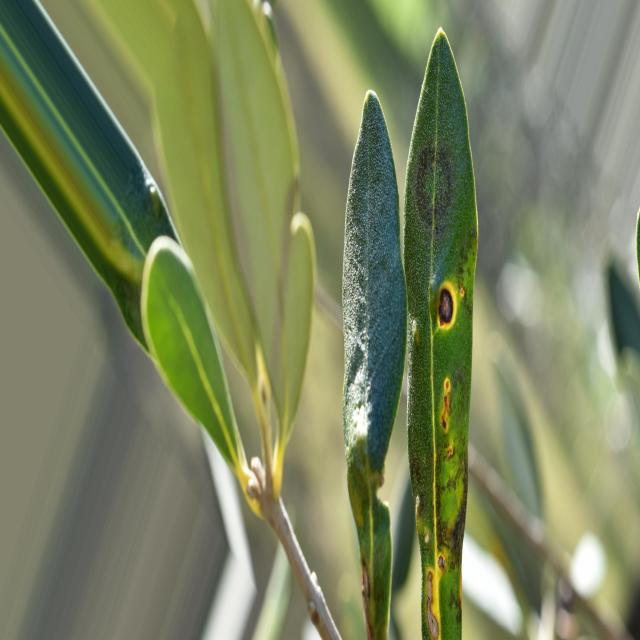Peacock Eye: (404, 28, 478, 640), (342, 91, 407, 640)
